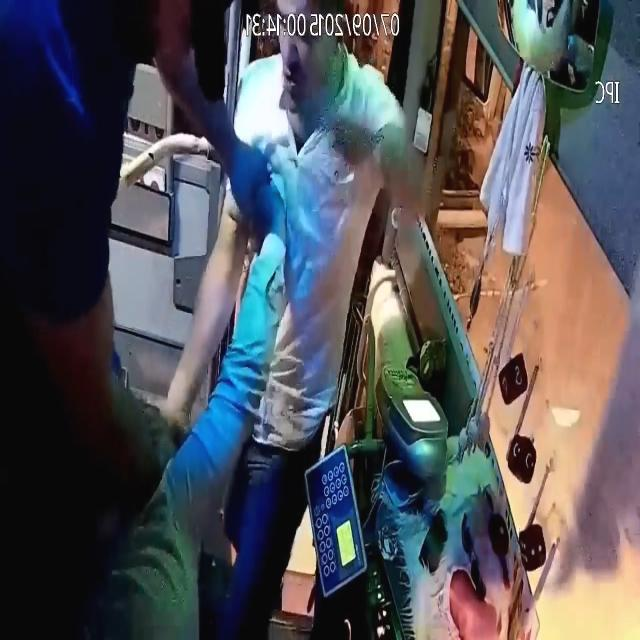fight: (104, 0, 418, 640), (0, 2, 288, 640)
